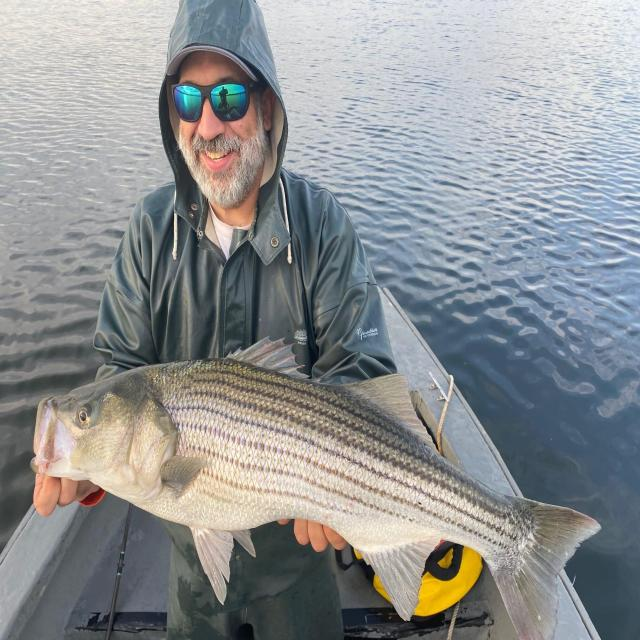Bass - Striped: (33, 359, 599, 638)
